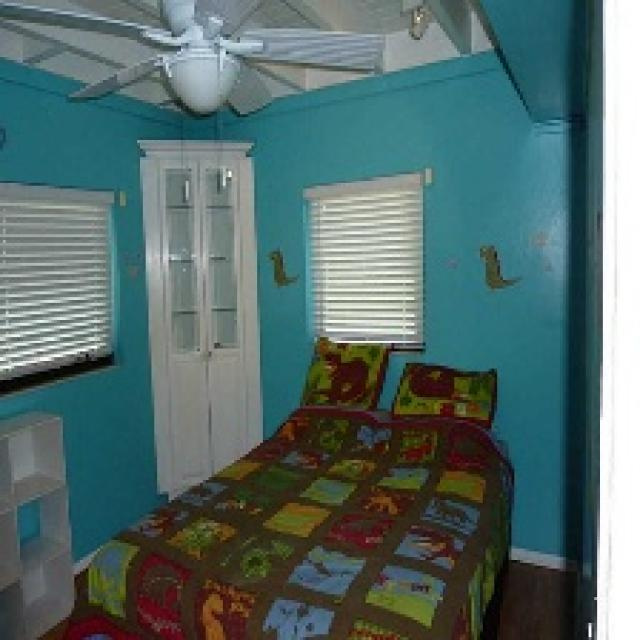Bed: (57, 403, 514, 637)
